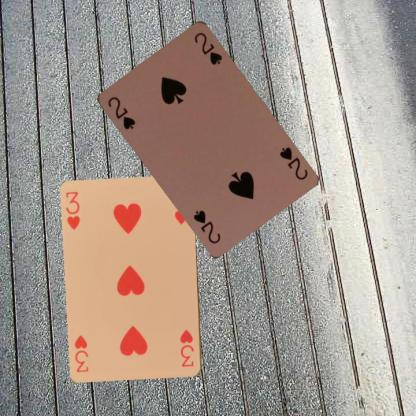2s: (276, 144, 309, 181), (105, 94, 136, 131)
3h: (177, 327, 196, 369), (63, 189, 82, 231)
